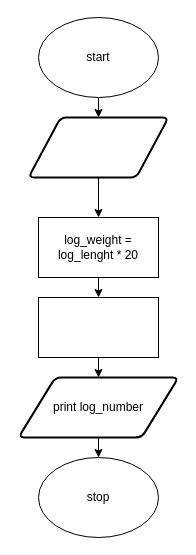
The diagram is 196 pixels wide and 555 high, and some of its shapes have lost their labels. The shapes that lost their labels are listed below. From the top down, each one's centre as x and y in pixels, then its label:
At point (98, 147): "get log_lenght".
At point (98, 327): "log_number = 1100/ log_weight".
